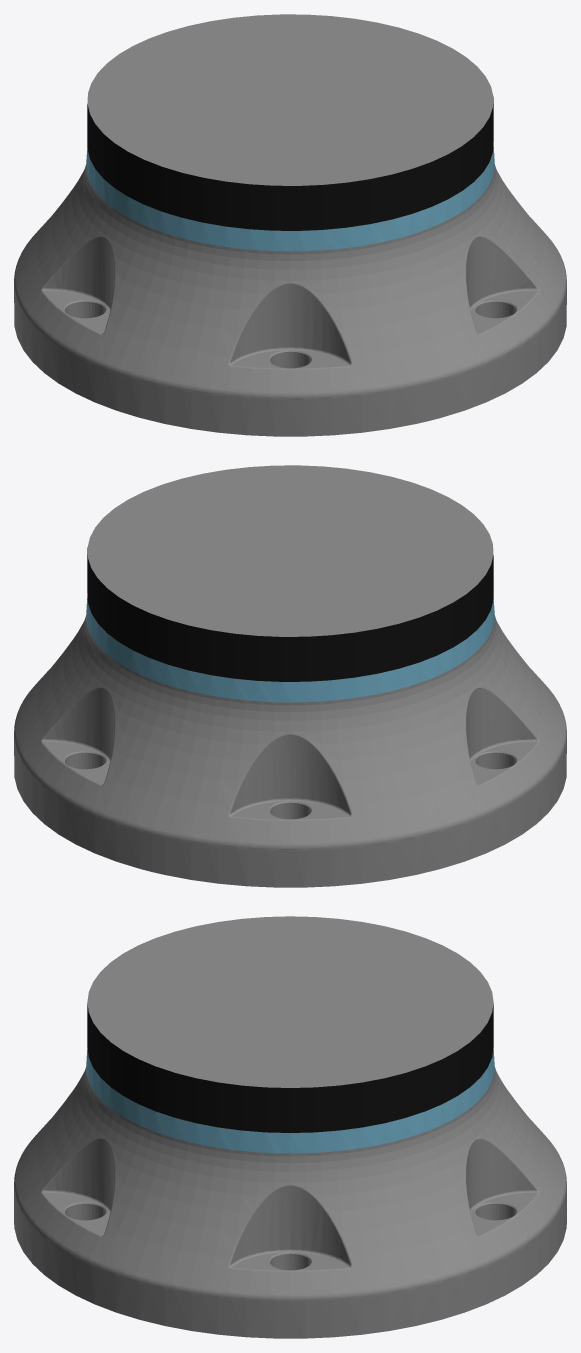
3 views of the same model, one above another, from view 1: azimuth 30°, elevation 25°; view 2: azimuth 150°, elevation 25°; view 3: azimuth 270°, elevation 25° (orthographic).
Parts seen in each view (by area): view 1: ur20 - 695-903-00_Centercode_B.step-1 C-2003903.step-1; view 2: ur20 - 695-903-00_Centercode_B.step-1 C-2003903.step-1; view 3: ur20 - 695-903-00_Centercode_B.step-1 C-2003903.step-1.
Boxes of the visible parts, x1=… form: ur20 - 695-903-00_Centercode_B.step-1 C-2003903.step-1: x1=14, y1=14, x2=566, y2=436; ur20 - 695-903-00_Centercode_B.step-1 C-2003903.step-1: x1=14, y1=465, x2=566, y2=887; ur20 - 695-903-00_Centercode_B.step-1 C-2003903.step-1: x1=14, y1=916, x2=566, y2=1338.
Size of the model in its own units: 0.245 by 0.245 by 0.1074.
